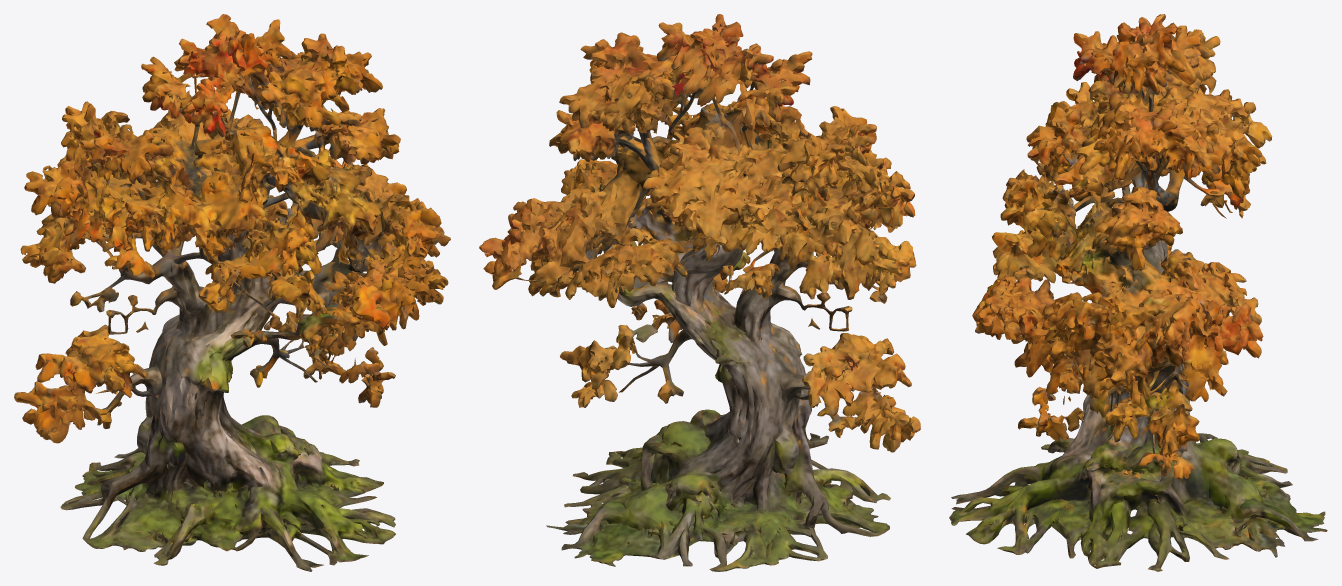
The model's file is Oak_02.fbx.
3 renders of one model, left to right at view 1: azimuth 30°, elevation 25°; view 2: azimuth 150°, elevation 25°; view 3: azimuth 270°, elevation 25°, orthographic.
Visible parts, largest first — view 1: geometry_0; view 2: geometry_0; view 3: geometry_0.
Boxes of the visible parts, x1,y1,x2,y2 form: geometry_0: (14,14,450,571); geometry_0: (479,14,920,571); geometry_0: (949,14,1327,571).
Size of the model in its own units: 63.47 by 70 by 49.73.
